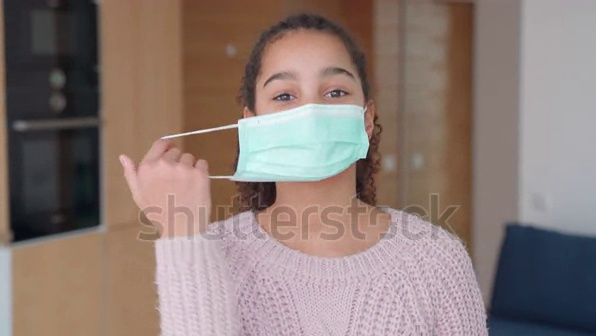Mask: (222, 106, 382, 186)
